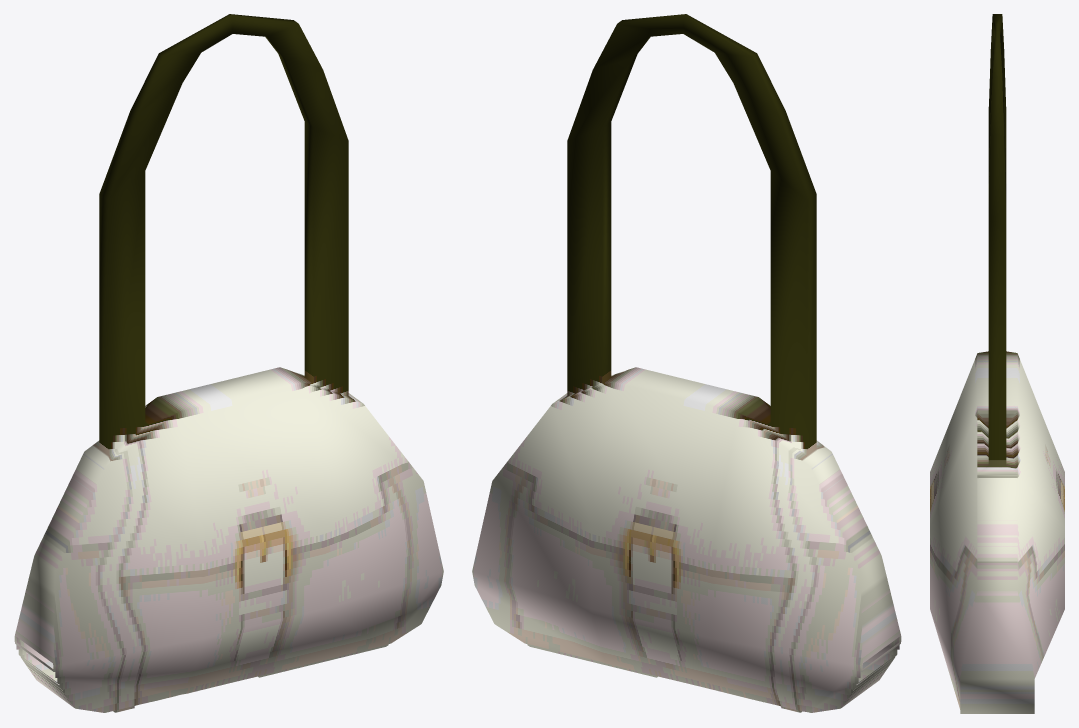
Rendered from bag.fbx.
3 views of the same model, side by side, from view 1: azimuth 30°, elevation 25°; view 2: azimuth 150°, elevation 25°; view 3: azimuth 270°, elevation 25° (orthographic). The views are drawn at different scales.
Parts seen in each view (by area): view 1: Cube; view 2: Cube; view 3: Cube.
Part boxes in pixels (bbox=[...]): Cube: bbox=[14, 14, 443, 712]; Cube: bbox=[472, 14, 901, 712]; Cube: bbox=[930, 14, 1064, 713].
Size of the model in its own units: 332 by 528 by 103.
